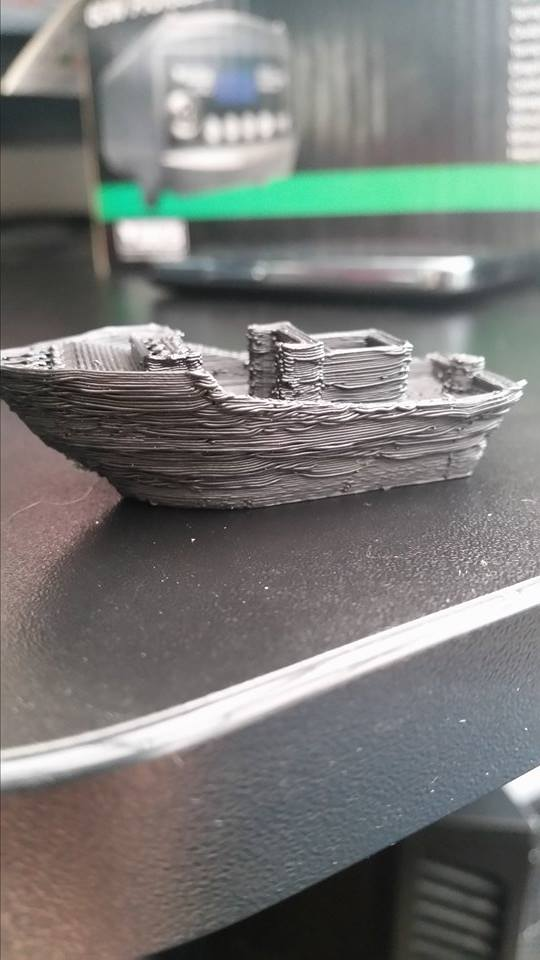blob: (218, 408, 469, 482), (45, 385, 178, 448), (124, 458, 221, 521), (230, 329, 265, 395), (431, 359, 480, 397), (267, 343, 293, 401)
